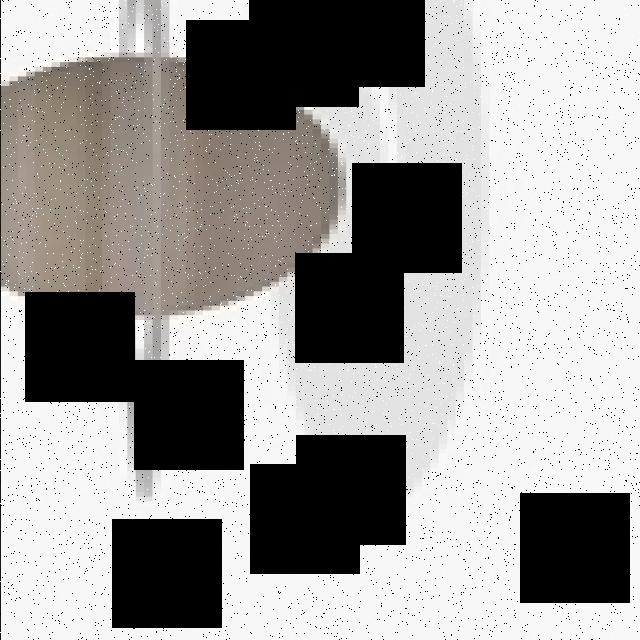Saturn: (0, 0, 353, 501)
